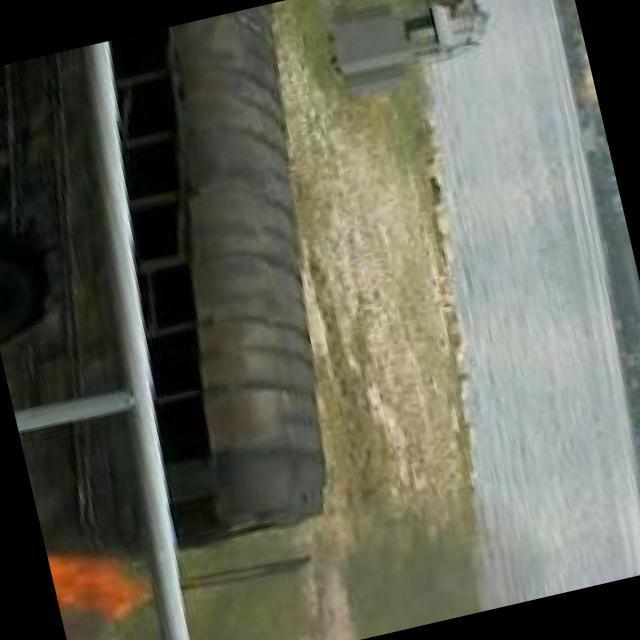Fire: (49, 545, 149, 637)
